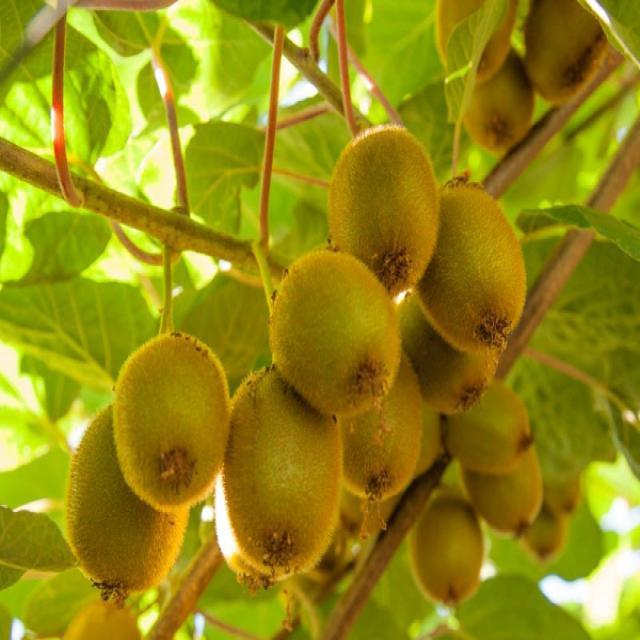kiwi: (223, 367, 344, 576), (66, 402, 187, 587), (269, 249, 397, 417), (116, 334, 228, 516), (411, 185, 526, 354), (330, 127, 439, 287), (322, 328, 419, 499), (393, 274, 500, 416), (449, 419, 543, 533), (409, 483, 486, 606), (525, 1, 611, 105), (438, 378, 530, 473), (464, 34, 535, 154)
